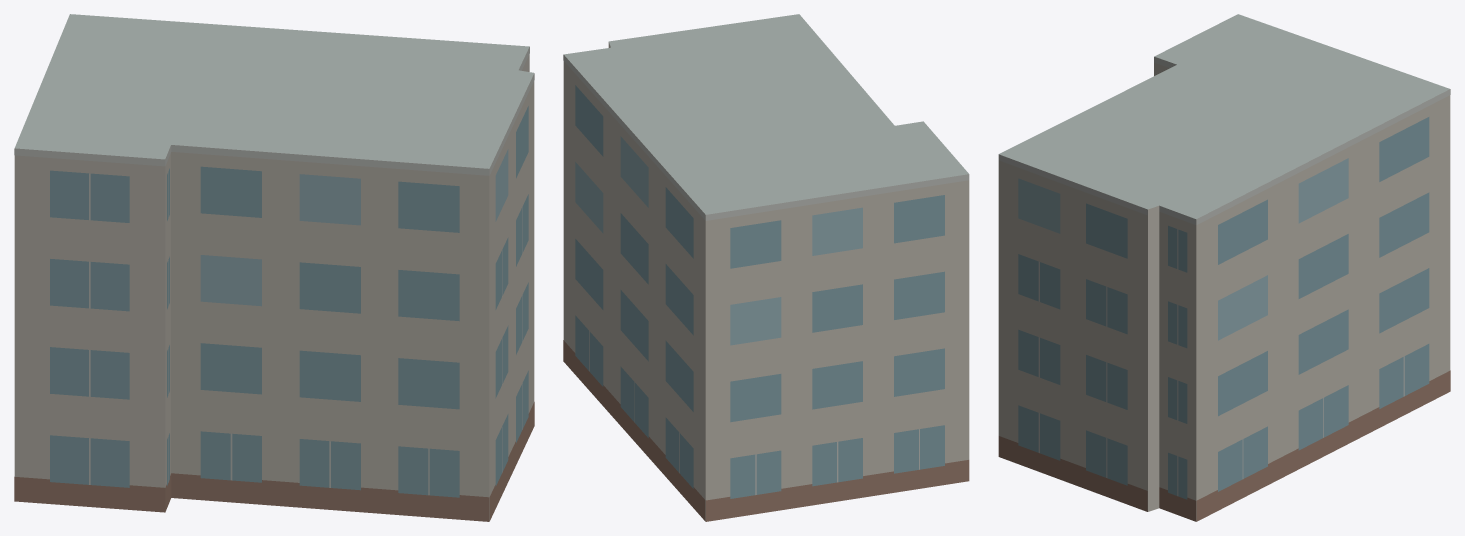
The model's file is survey-upis-33045179.glb.
3 views of the same model, side by side, from view 1: azimuth 30°, elevation 25°; view 2: azimuth 150°, elevation 25°; view 3: azimuth 270°, elevation 25° (orthographic). The views are drawn at different scales.
Parts seen in each view (by area): view 1: survey-upis-33045179.tmp; view 2: survey-upis-33045179.tmp; view 3: survey-upis-33045179.tmp.
Boxes of the visible parts, left/top/right/bottom form: survey-upis-33045179.tmp: left=14, top=14, right=534, bottom=521; survey-upis-33045179.tmp: left=563, top=14, right=969, bottom=521; survey-upis-33045179.tmp: left=998, top=14, right=1450, bottom=521.
Size of the model in its own units: 17.91 by 12.3 by 16.65.
